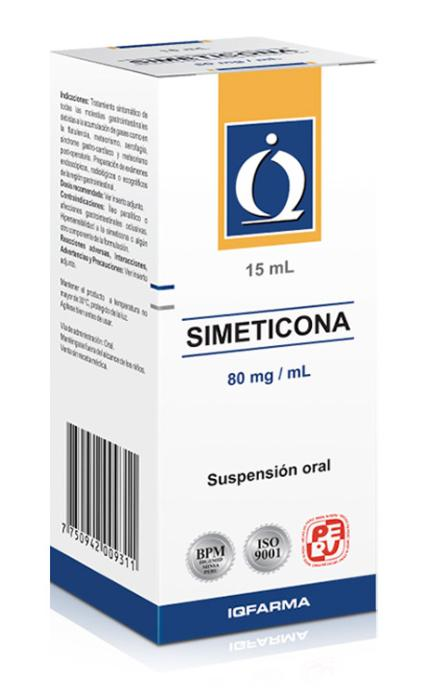brand: (222, 588, 320, 629)
extra_detail: (224, 357, 320, 395)
net_weight: (242, 256, 307, 281)
product_name: (182, 303, 358, 358)
